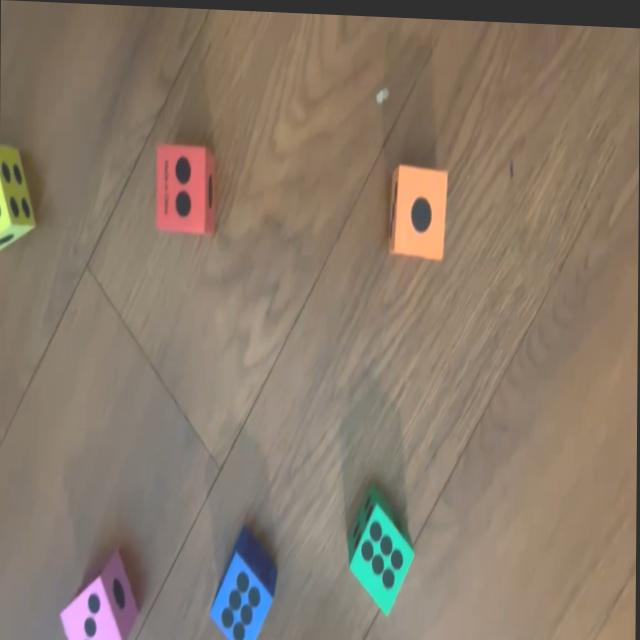blue_block: (209, 517, 281, 640)
red_block: (156, 142, 216, 232)
